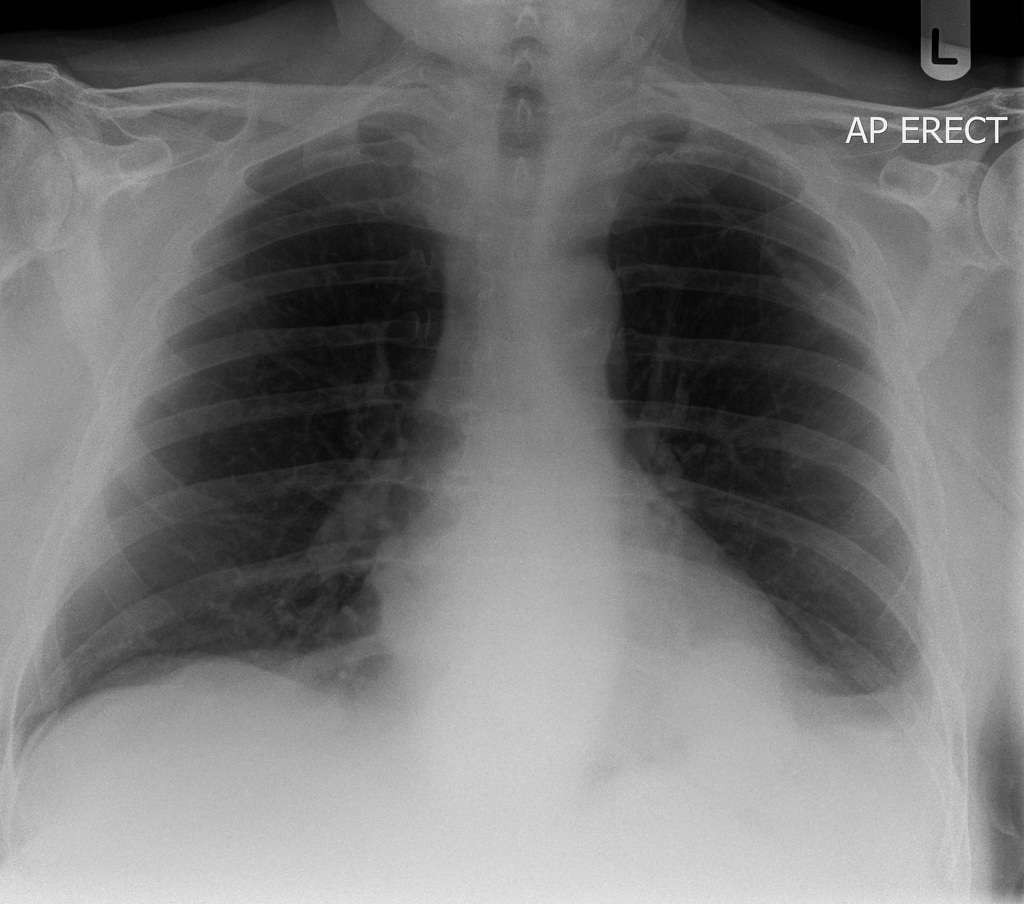cancer: (618, 156, 897, 699), (143, 187, 410, 695)
